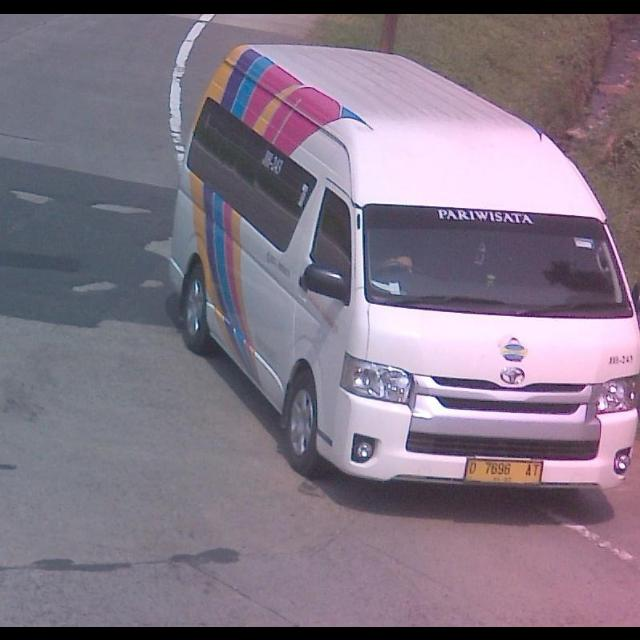plate: (462, 457, 548, 488)
